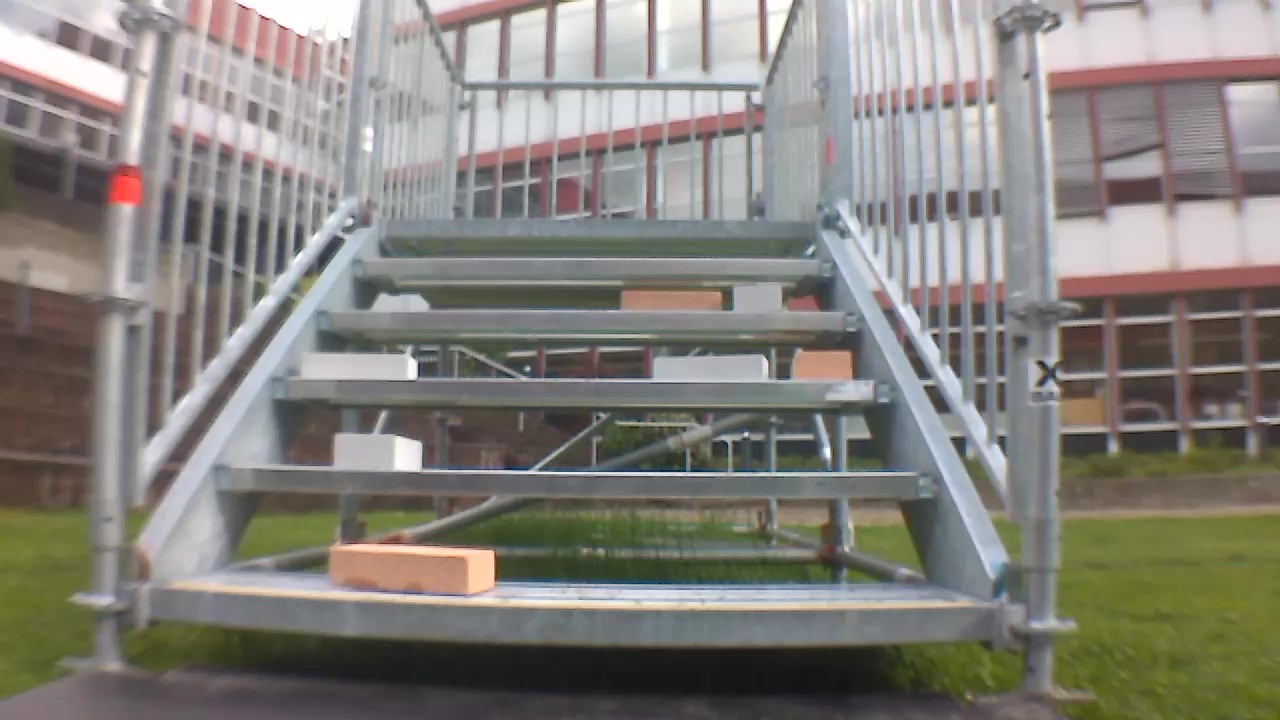brick: (328, 545, 494, 594), (335, 434, 422, 470), (302, 353, 417, 378), (655, 355, 768, 379), (621, 290, 721, 312), (793, 351, 850, 379), (734, 286, 780, 311)
edge: (151, 586, 994, 645), (214, 465, 934, 498), (272, 377, 897, 404), (315, 311, 865, 331), (383, 219, 826, 238), (349, 258, 833, 275)
stairs: (77, 2, 1076, 699)
steps: (134, 216, 1006, 656)
